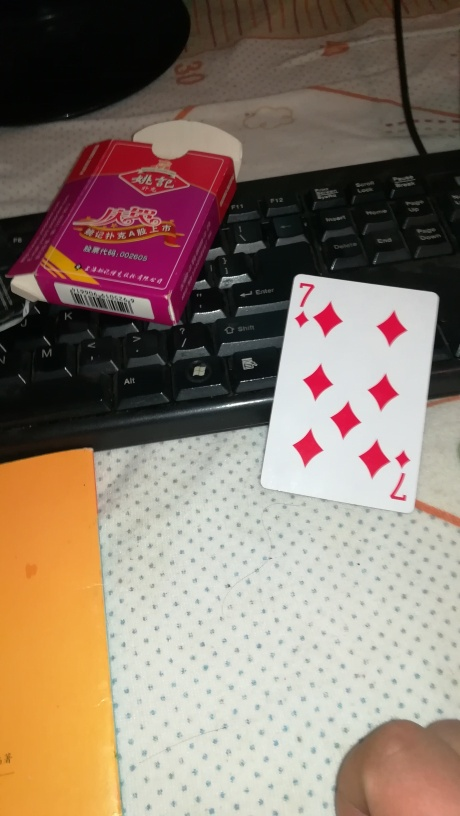fk 7: (258, 266, 441, 519)
